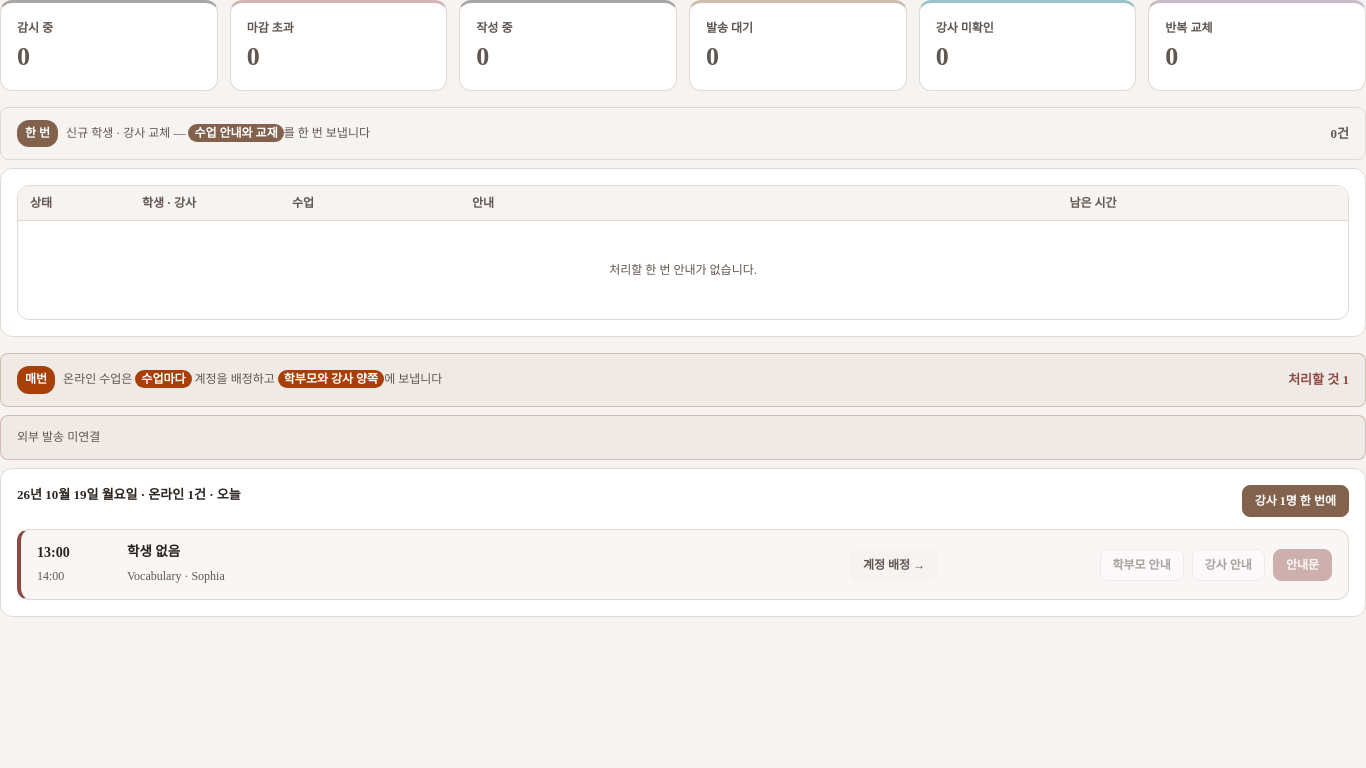
Test: 배정창은 학생이 없으면 수업명과 현재 시각을 보여 주며 원래 날짜를 오늘로 표시하지 않는다
What coordinates should you click on to do the following:
click the button "계정 배정 →"
I would click on:
 (894, 564)
Its box is top-left (850, 548), bottom-right (938, 580).
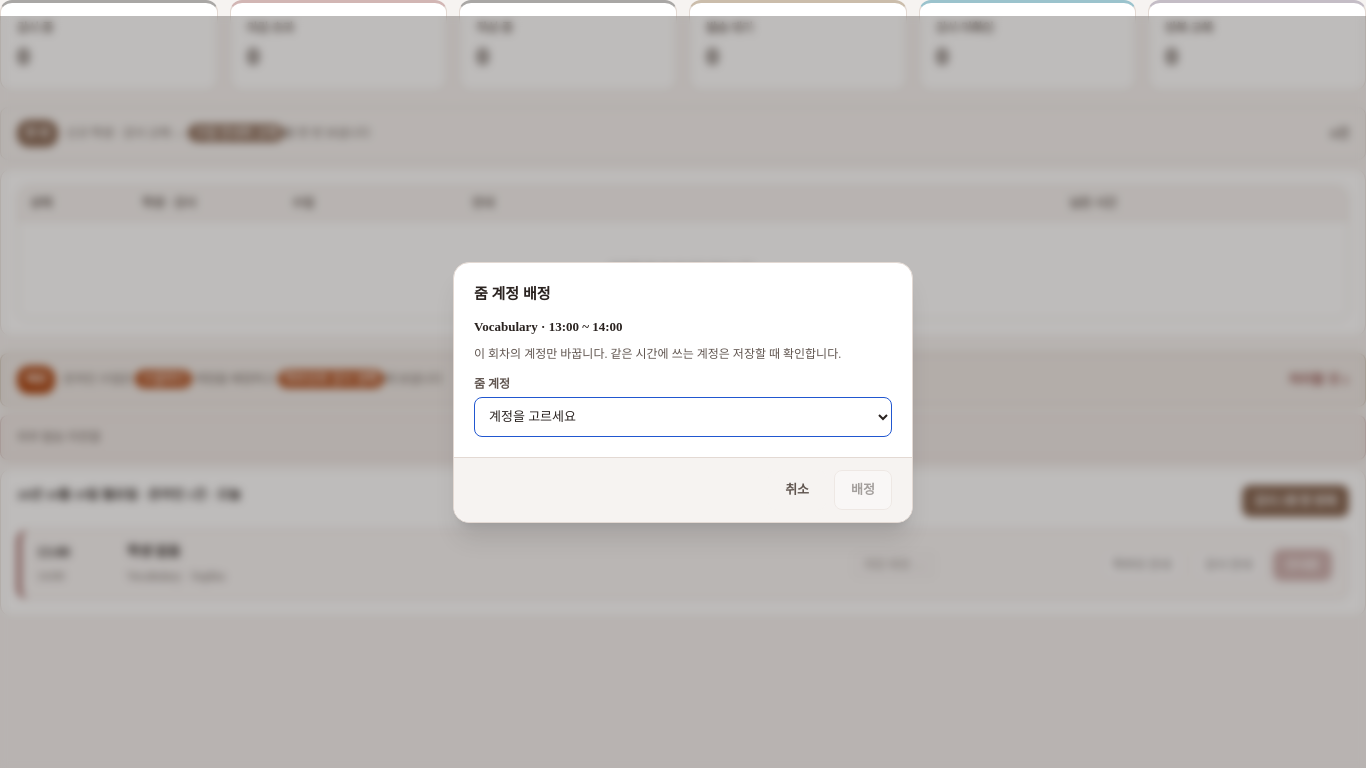
Now the text "Vocabulary · 13:00 ~ 14:00" is shown, box top-left (474, 319), bottom-right (623, 334)
